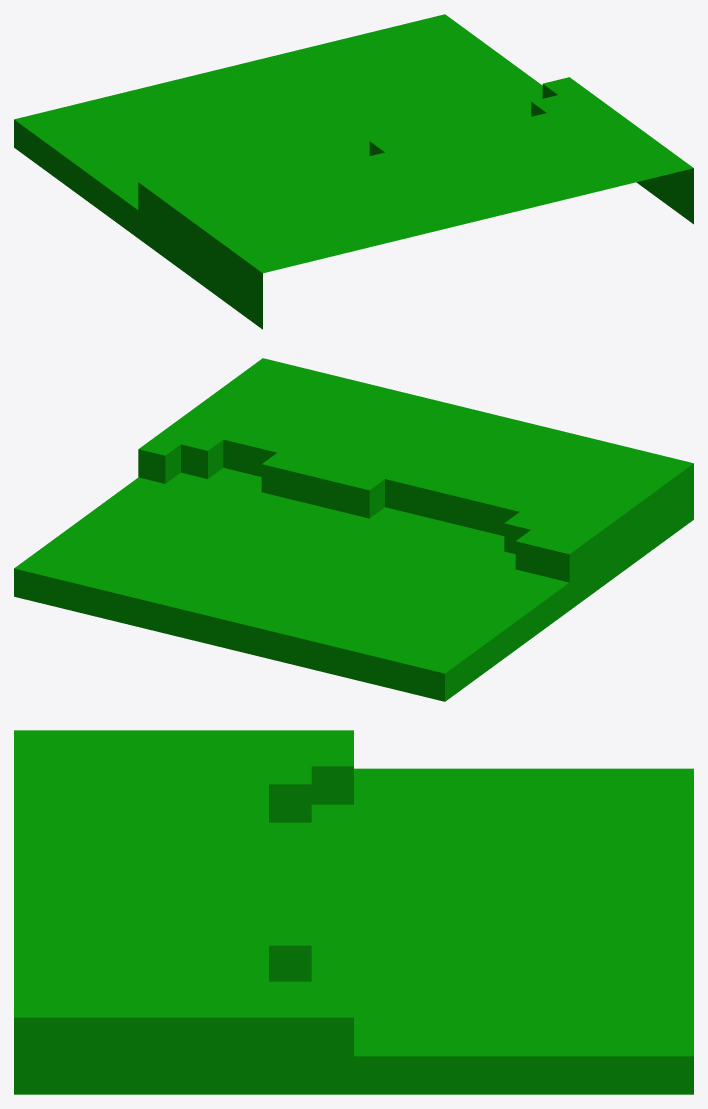
The model's file is Straight8.fbx.
The picture shows the model from 3 angles, top to bottom: view 1: azimuth 30°, elevation 25°; view 2: azimuth 150°, elevation 25°; view 3: azimuth 270°, elevation 25°; orthographic projection. The views are drawn at different scales.
Parts seen in each view (by area): view 1: Matrix; view 2: Matrix; view 3: Matrix.
Boxes of the visible parts, left/top/right/bottom form: Matrix: left=14, top=14, right=693, bottom=329; Matrix: left=14, top=358, right=693, bottom=701; Matrix: left=14, top=730, right=693, bottom=1094.
Bounding box in the file's own units: 16 × 2 × 16.
1 material, 1 textured.
